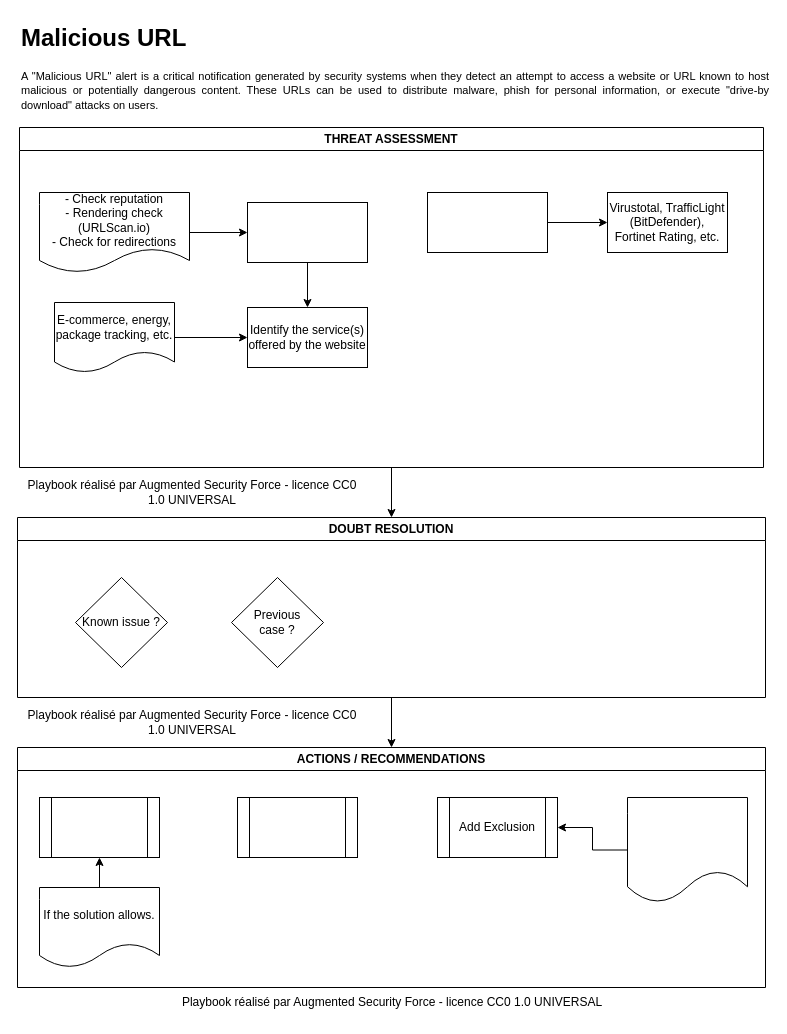
The diagram is 787 pixels wide and 1034 high, and some of its shapes have lost their labels. The shapes that lost their labels are listed below. From the top down, each one's centre as x and y in pixels, then its label:
point 307,232: Retrieve the URL
point 487,222: Identify the reason for the alert
point 99,827: Request reclassification of the domain / URL
point 297,827: Maintain the blocking
point 687,849: In allow or block list, based on the results and feedback
